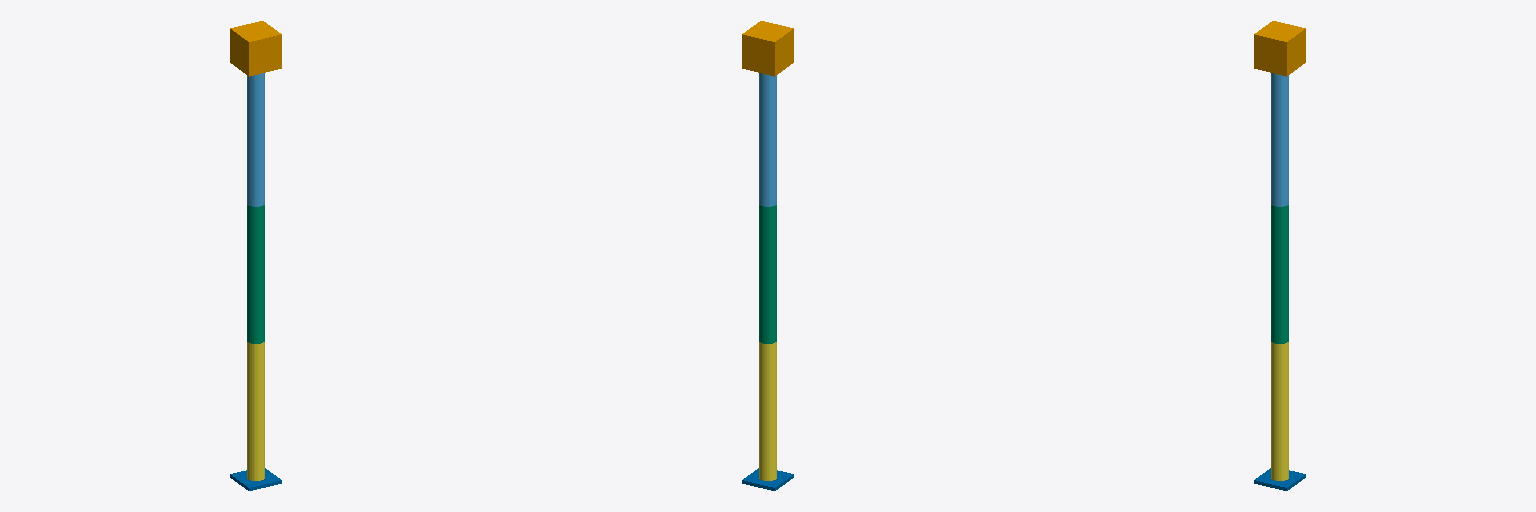
URDF robot description (hopping_robot):
<?xml version="1.0" encoding="utf-8"?>
<!-- =================================================================================== -->
<!-- |    This document was autogenerated by xacro from hopping_robot.xacro            | -->
<!-- |    EDITING THIS FILE BY HAND IS NOT RECOMMENDED                                 | -->
<!-- =================================================================================== -->
<!-- Author: Peter Jochem
     Email: [email redacted]
     Date: 09/29/2020   -->
<robot name="hopping_robot">
  <link name="torso">
    <visual>
      <geometry>
        <box size="0.1 0.1 0.1"/>
      </geometry>
      <material name="gray">
        <!-- color rgba="255 0 0 0.75" /-->
      </material>
      <origin rpy="0 0 0" xyz="0.0 0.0 0.0"/>
    </visual>
    <inertial>
      <origin rpy="0 0 0" xyz="0.0 0.0 0.0"/>
      <mass value="1.0"/>
      <!-- Fix the inertia tag-->
      <inertia ixx="0.00208333333333" iyy="0.00208333333333" izz="0.00208333333333"/>
    </inertial>
    <collision>
      <origin rpy="0 0 0" xyz="0.0 0.0 0.0"/>
      <geometry>
        <box size="0.1 0.1 0.1"/>
      </geometry>
    </collision>
  </link>
  <link name="link1">
    <visual>
      <geometry>
        <cylinder length="0.4" radius="0.025"/>
      </geometry>
      <material name="gray">
        <!-- color rgba="0 255 0 0.4" / -->
      </material>
      <origin rpy="0 0 0" xyz="0 0 0"/>
    </visual>
    <inertial>
      <origin rpy="0 0 0" xyz="0 0 0"/>
      <mass value="1.0"/>
      <inertia ixx="0.000666666666667" iyy="0.000666666666667" izz="0.000666666666667"/>
    </inertial>
    <collision>
      <origin rpy="0 0 0" xyz="0 0 0"/>
      <geometry>
        <cylinder length="0.4" radius="0.025"/>
      </geometry>
    </collision>
  </link>
  <link name="link2">
    <visual>
      <geometry>
        <cylinder length="0.4" radius="0.025"/>
      </geometry>
      <material name="gray">
        <!-- color rgba="233 0 255 0.4" / -->
      </material>
      <origin rpy="0 0 0" xyz="0 0 -0.2"/>
    </visual>
    <inertial>
      <origin rpy="0 0 0" xyz="0 0 -0.2"/>
      <mass value="1.0"/>
      <inertia ixx="0.000666666666667" iyy="0.000666666666667" izz="0.000666666666667"/>
    </inertial>
    <collision>
      <origin rpy="0 0 0" xyz="0 0 -0.2"/>
      <geometry>
        <cylinder length="0.4" radius="0.025"/>
      </geometry>
    </collision>
  </link>
  <link name="link3">
    <visual>
      <geometry>
        <cylinder length="0.4" radius="0.025"/>
      </geometry>
      <material name="gray">
        <!-- color rgba="0 0 255 0.4"/ -->
      </material>
      <origin rpy="0 0 0" xyz="0 0 -0.2"/>
    </visual>
    <inertial>
      <origin rpy="0 0 0" xyz="0 0 -0.2"/>
      <mass value="1.0"/>
      <inertia ixx="0.000666666666667" iyy="0.000666666666667" izz="0.000666666666667"/>
    </inertial>
    <collision>
      <origin rpy="0 0 0" xyz="0 0 -0.2"/>
      <geometry>
        <cylinder length="0.4" radius="0.025"/>
      </geometry>
    </collision>
  </link>
  <link name="foot">
    <visual>
      <geometry>
        <box size="0.1 0.1 0.01"/>
      </geometry>
      <material name="gray">
        <!-- color rgba="0 255 0 0.5" / -->
      </material>
      <origin rpy="0 0 0" xyz="0.0 0.0 0.0"/>
    </visual>
    <inertial>
      <origin rpy="0 0 0" xyz="0.0 0.0 0.0"/>
      <mass value="1.0"/>
      <!-- Fix the inertia tag-->
      <inertia ixx="0.000210416666667" iyy="0.000210416666667" izz="0.000416666666667"/>
    </inertial>
    <collision>
      <origin rpy="0 0 0" xyz="0.0 0.0 0.0"/>
      <geometry>
        <box size="0.1 0.1 0.01"/>
      </geometry>
    </collision>
  </link>
  <joint name="torso_leg" type="fixed">
    <parent link="torso"/>
    <child link="link1"/>
    <origin rpy="0 0 0" xyz="0.0 0.0 -0.25"/>
    <axis xyz="0 0 0"/>
  </joint>
  <joint name="link1_link2" type="revolute">
    <origin rpy="0 0 0" xyz="0.0 0.0 -0.2"/>
    <axis xyz="1 0 0"/>
    <parent link="link1"/>
    <child link="link2"/>
    <!-- What to set these to? -->
    <limit effort="10" lower="-0.785" upper="0.785" velocity="1.0"/>
  </joint>
  <joint name="link2_link3" type="revolute">
    <origin rpy="0 0 0" xyz="0.0 0.0 -0.4"/>
    <axis xyz="1 0 0"/>
    <parent link="link2"/>
    <child link="link3"/>
    <!-- What to set these to? -->
    <limit effort="10" lower="-0.785" upper="0.785" velocity="1.0"/>
  </joint>
  <joint name="leg_foot" type="revolute">
    <origin rpy="0 0 0" xyz="0.0 0.0 -0.405"/>
    <axis xyz="1 0 0"/>
    <parent link="link3"/>
    <child link="foot"/>
    <!-- What to set these to? -->
    <limit effort="10" lower="-0.785" upper="0.785" velocity="1.0"/>
  </joint>
  <transmission name="leg_foot_trans" type="transmission_interface/SimpleTransmission">
    <joint name="leg_foot_trans"/>
    <actuator name="leg_foot_trans"/>
    <!-- What to set these to? -->
    <motorInertia>0.0000049</motorInertia>
    <mechanicalReduction>50</mechanicalReduction>
  </transmission>
  <transmission name="link1_link2_trans" type="transmission_interface/SimpleTransmission">
    <joint name="link1_link2_trans"/>
    <actuator name="link1_link2_trans"/>
    <!-- What to set these to? -->
    <motorInertia>0.0000049</motorInertia>
    <mechanicalReduction>50</mechanicalReduction>
  </transmission>
  <transmission name="link2_link3_trans" type="transmission_interface/SimpleTransmission">
    <joint name="link2_link3_trans"/>
    <actuator name="link2_link3_trans"/>
    <!-- What to set these to? -->
    <motorInertia>0.0000049</motorInertia>
    <mechanicalReduction>50</mechanicalReduction>
  </transmission>
</robot>

--- What the picture shows (computed from the rendered views, not written in the file) ---
Views: 3 orthographic renders of the robot side by side, from view 1: azimuth 30°, elevation 25°; view 2: azimuth 150°, elevation 25°; view 3: azimuth 330°, elevation 25°.
Robot: hopping_robot — 5 links, 4 joints (3 revolute, 1 fixed); root link torso; default pose: every joint at zero.
Links seen in each view (by area): view 1: link2, link3, torso, link1, foot; view 2: link2, link3, torso, link1, foot; view 3: link2, link3, torso, link1, foot.
Boxes of the visible links, box(x1,y1,x2,y2) form: link2: box(247, 205, 264, 343); link3: box(247, 342, 264, 480); torso: box(230, 21, 281, 76); link1: box(247, 73, 264, 206); foot: box(230, 468, 281, 490); link2: box(759, 205, 776, 343); link3: box(759, 342, 776, 480); torso: box(742, 21, 793, 76); link1: box(759, 73, 776, 206); foot: box(742, 468, 793, 490); link2: box(1271, 205, 1288, 343); link3: box(1271, 342, 1288, 480); torso: box(1254, 21, 1305, 76); link1: box(1271, 73, 1288, 206); foot: box(1254, 468, 1305, 490).
Size in the robot's own frame: 0.1 by 0.1 by 1.31 metres.
Geometry: primitives only (box / cylinder / sphere), no mesh files.
